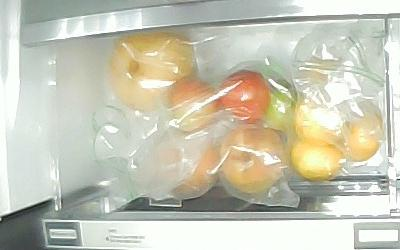peach_vinyl: (219, 125, 288, 194), (154, 137, 217, 199)
pear_vinyl: (106, 31, 192, 111)
tangerine_vinyl: (291, 136, 341, 181), (293, 99, 342, 144), (343, 111, 383, 162)
tomato_vinyl: (167, 77, 218, 131), (219, 70, 269, 123), (266, 77, 296, 131)
